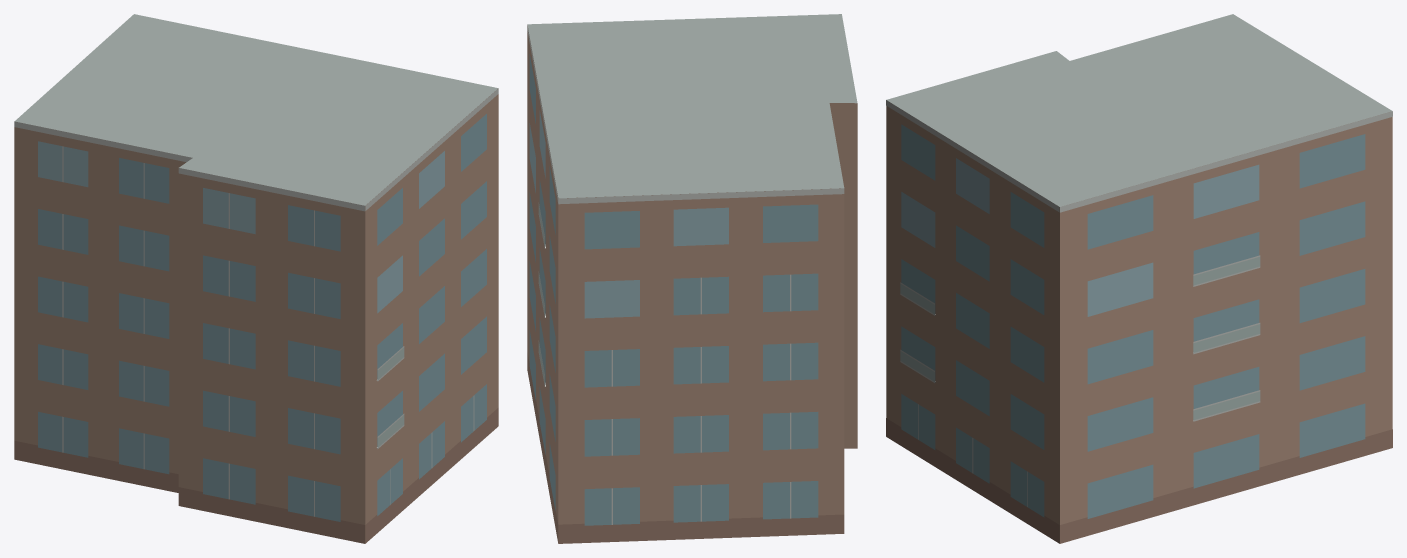
The model's file is survey-upis-32715639.glb.
3 views of the same model, side by side, from view 1: azimuth 30°, elevation 25°; view 2: azimuth 150°, elevation 25°; view 3: azimuth 270°, elevation 25° (orthographic). The views are drawn at different scales.
Visible parts, largest first — view 1: survey-upis-32715639.tmp; view 2: survey-upis-32715639.tmp; view 3: survey-upis-32715639.tmp.
Boxes of the visible parts, x1,y1,x2,y2 form: survey-upis-32715639.tmp: [14, 14, 498, 543]; survey-upis-32715639.tmp: [527, 14, 857, 543]; survey-upis-32715639.tmp: [886, 14, 1392, 543].
Bounding box in the file's own units: 17.89 × 14.55 × 19.84.
